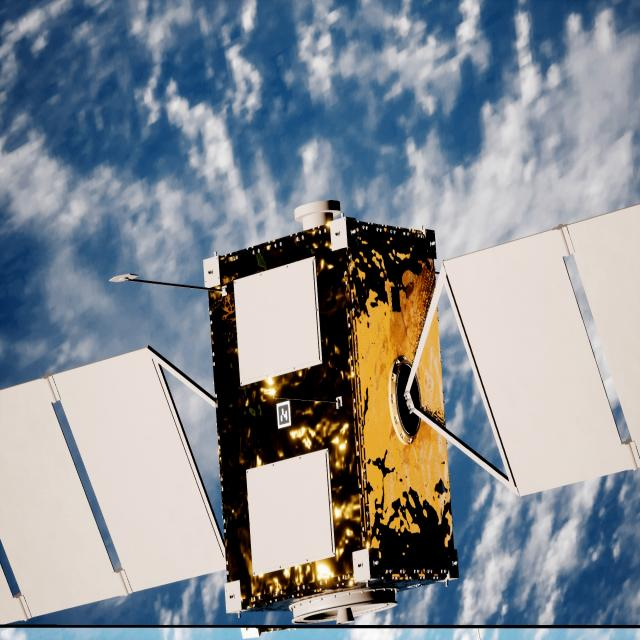satellite: (0, 200, 640, 618)
